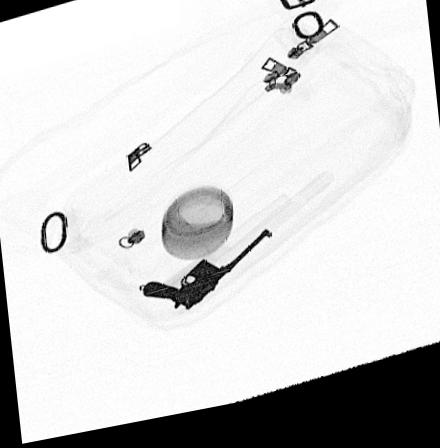Gun: (143, 238, 273, 317)
